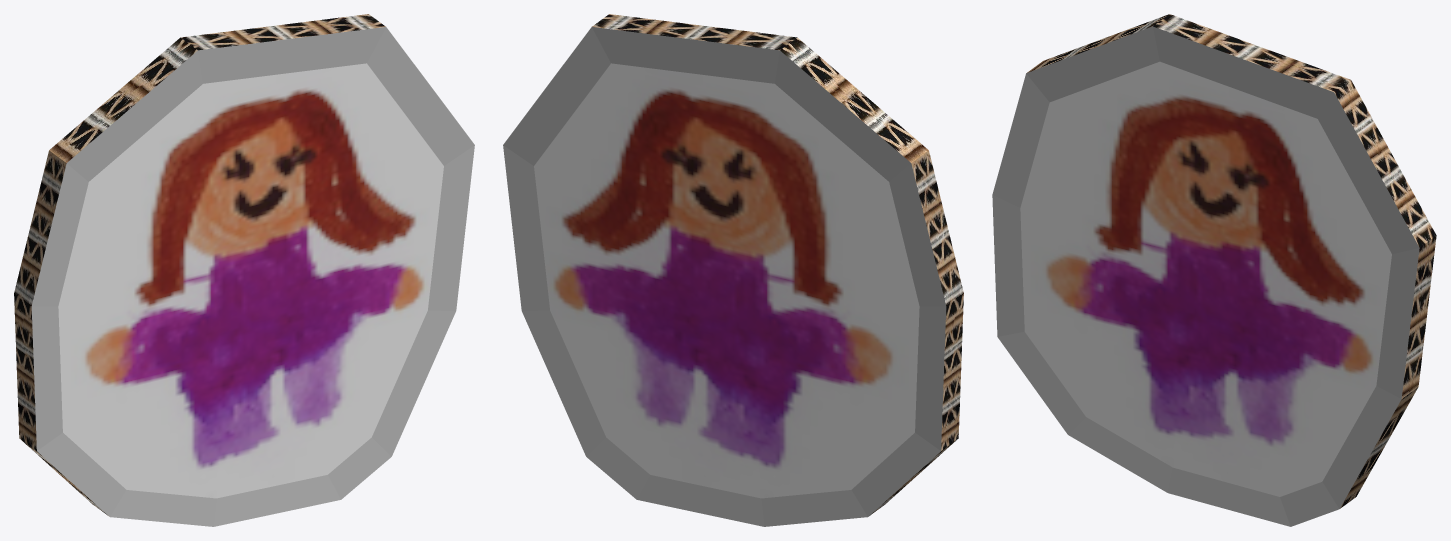
The model's file is Peukaloinen.fbx.
3 renders of one model, left to right at view 1: azimuth 30°, elevation 25°; view 2: azimuth 150°, elevation 25°; view 3: azimuth 330°, elevation 25°, orthographic. The views are drawn at different scales.
Visible parts, largest first — view 1: Peukaloinen; view 2: Peukaloinen; view 3: Peukaloinen.
Boxes of the visible parts, bbox=[...] form: Peukaloinen: bbox=[14, 14, 474, 526]; Peukaloinen: bbox=[503, 14, 963, 526]; Peukaloinen: bbox=[992, 14, 1436, 526].
Size of the model in its own units: 200 by 209 by 13.75.
